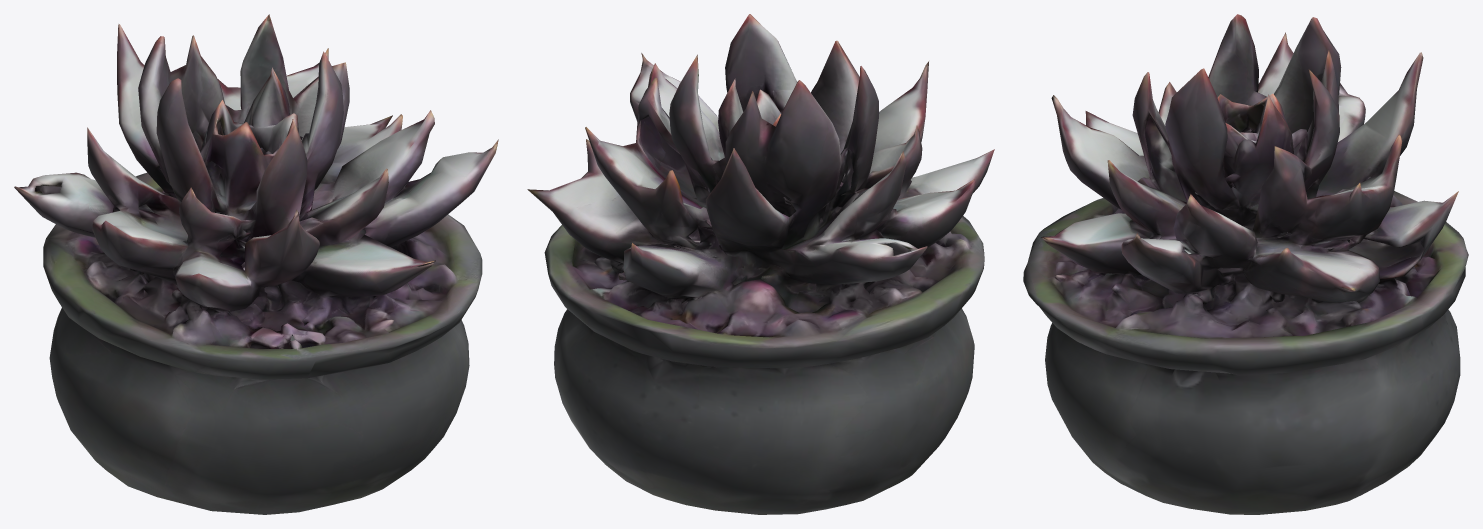
Rendered from Succulent.glb.
The picture shows the model from 3 angles, left to right: view 1: azimuth 30°, elevation 25°; view 2: azimuth 150°, elevation 25°; view 3: azimuth 270°, elevation 25°; orthographic projection.
Bounding box in the file's own units: 2 × 2 × 1.99.
Materials: 1 (1 with a texture image).
